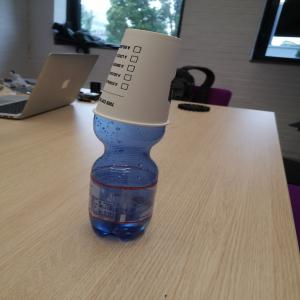Cup: (93, 29, 183, 128)
Plastic-bottle: (89, 129, 168, 244)
